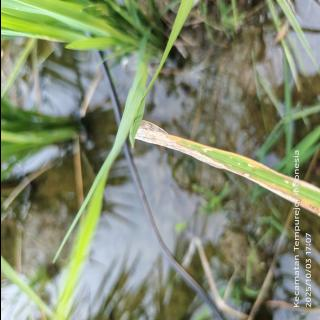Hawar-Daun: (133, 121, 225, 169)
